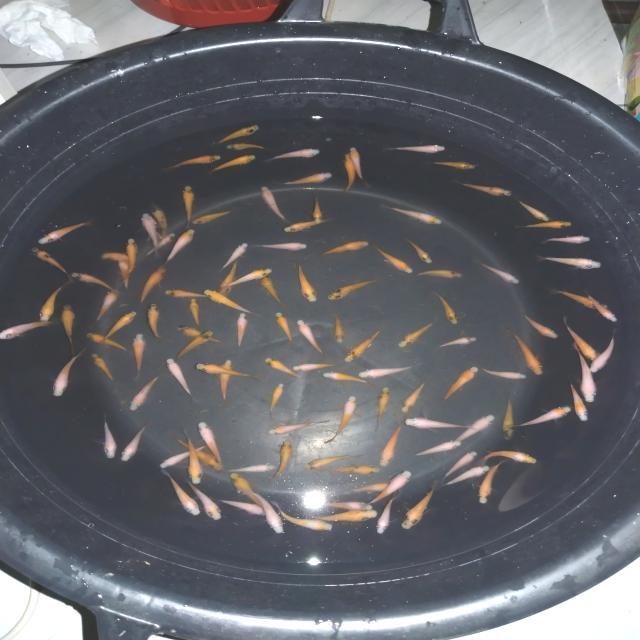nila: (266, 500, 337, 534), (159, 470, 201, 519), (48, 348, 88, 399), (366, 466, 413, 508), (509, 402, 574, 432), (246, 490, 286, 537), (508, 328, 544, 380), (203, 287, 261, 319), (447, 410, 497, 447), (402, 484, 440, 532), (320, 396, 358, 444), (172, 434, 224, 469), (182, 480, 223, 524), (562, 316, 602, 361), (569, 342, 598, 402), (31, 218, 93, 246), (92, 310, 137, 348), (379, 202, 444, 228), (328, 275, 390, 302), (194, 419, 227, 469), (437, 364, 478, 404), (437, 448, 479, 487), (176, 428, 204, 486), (154, 442, 208, 472), (0, 315, 54, 345), (256, 183, 294, 225), (516, 308, 562, 342), (163, 357, 198, 401), (344, 326, 384, 364), (437, 462, 493, 489), (160, 227, 197, 267), (230, 472, 268, 510), (372, 242, 414, 276), (136, 262, 168, 306), (306, 509, 380, 528), (208, 122, 262, 148), (535, 252, 605, 272), (476, 459, 505, 507), (552, 288, 610, 312), (254, 270, 290, 308), (68, 268, 119, 294), (262, 145, 325, 166), (588, 332, 620, 373), (356, 361, 418, 382), (395, 318, 437, 349), (260, 416, 332, 434), (118, 421, 148, 464), (40, 278, 68, 324), (138, 212, 166, 258), (563, 377, 591, 423), (193, 360, 257, 380), (26, 244, 68, 274), (204, 497, 270, 516), (203, 152, 257, 175), (452, 179, 514, 199), (268, 438, 298, 479), (130, 373, 161, 412), (172, 330, 212, 360), (296, 316, 326, 356), (173, 322, 224, 345), (406, 438, 464, 458), (474, 449, 542, 466), (379, 422, 404, 468), (369, 382, 391, 434), (90, 288, 120, 326), (509, 195, 551, 222), (214, 358, 236, 409), (223, 266, 274, 288), (344, 480, 406, 498), (188, 205, 236, 228), (295, 260, 320, 304), (167, 152, 222, 172), (402, 418, 475, 433), (99, 251, 134, 282), (303, 452, 357, 472), (374, 493, 398, 538), (262, 353, 302, 380), (318, 237, 372, 257), (280, 214, 336, 233), (128, 331, 148, 384), (217, 241, 250, 273), (142, 231, 178, 260), (144, 200, 170, 240), (278, 170, 335, 188), (400, 377, 428, 413), (381, 142, 452, 156), (481, 262, 522, 286), (60, 301, 78, 355), (434, 290, 461, 326), (348, 144, 370, 188), (83, 331, 129, 352), (586, 292, 616, 324), (100, 412, 118, 462), (412, 266, 468, 282), (339, 150, 358, 196), (499, 392, 516, 442), (91, 354, 119, 384), (426, 158, 482, 173), (274, 308, 296, 346), (221, 462, 276, 477), (317, 371, 372, 386), (264, 380, 286, 417), (160, 286, 217, 300), (434, 334, 480, 351), (478, 366, 530, 381), (406, 236, 432, 266), (146, 302, 165, 342), (512, 220, 575, 232), (180, 182, 195, 232), (247, 240, 309, 252), (324, 500, 372, 514), (536, 234, 590, 246), (116, 249, 131, 292), (320, 464, 384, 474), (289, 362, 339, 374), (331, 306, 346, 345), (234, 310, 248, 351), (214, 260, 236, 286), (204, 284, 235, 302), (308, 192, 324, 226), (126, 235, 138, 279), (222, 142, 272, 152), (186, 296, 202, 326)
